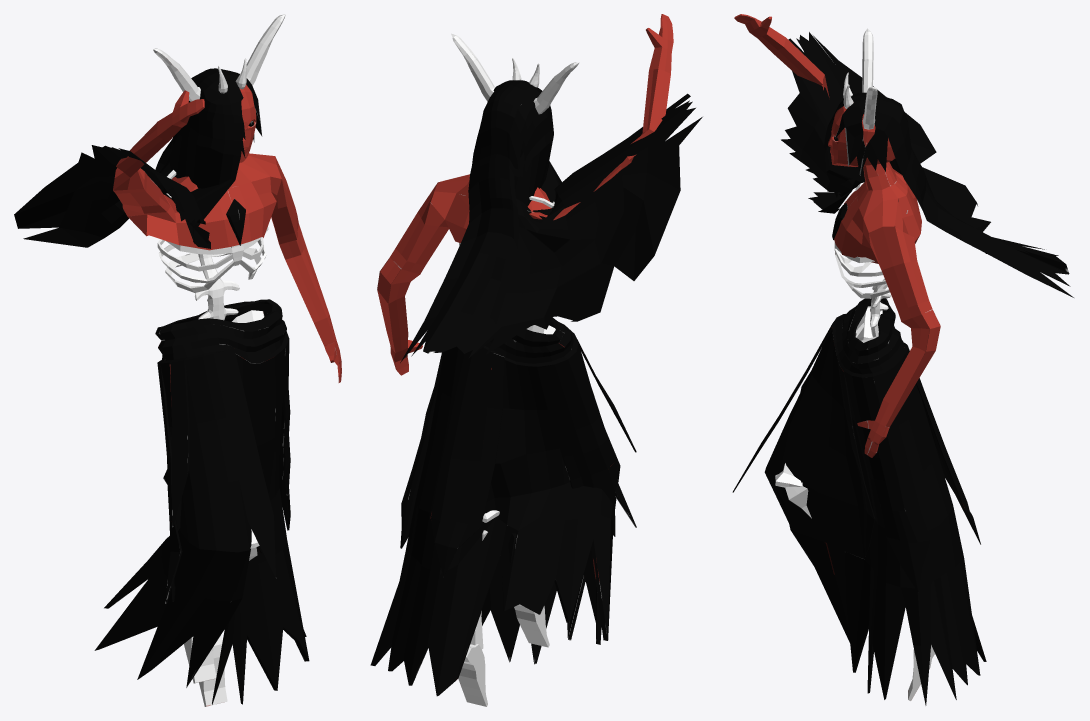
The model's file is cursedqueenattack_16.fbx.
3 renders of one model, left to right at view 1: azimuth 30°, elevation 25°; view 2: azimuth 150°, elevation 25°; view 3: azimuth 270°, elevation 25°, orthographic. The views are drawn at different scales.
Parts seen in each view (by area): view 1: cursed_queen; view 2: cursed_queen; view 3: cursed_queen.
Part boxes in pixels (x1,y1,x2,y2): cursed_queen: (14,14,341,706); cursed_queen: (370,14,702,706); cursed_queen: (732,14,1073,705).
Size of the model in its own units: 129 by 283 by 138.
